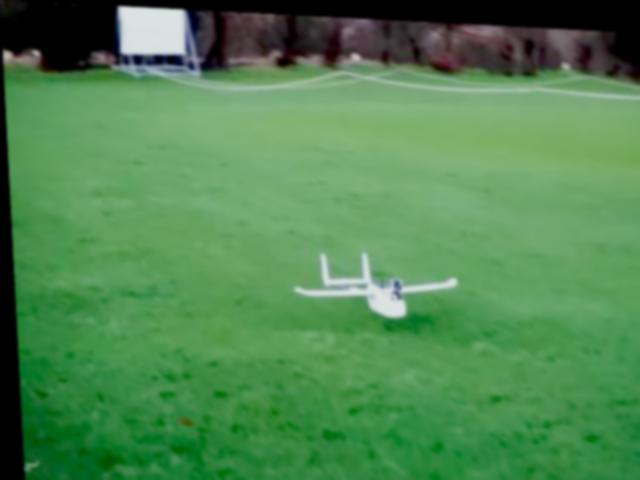uav: (283, 239, 465, 332)
